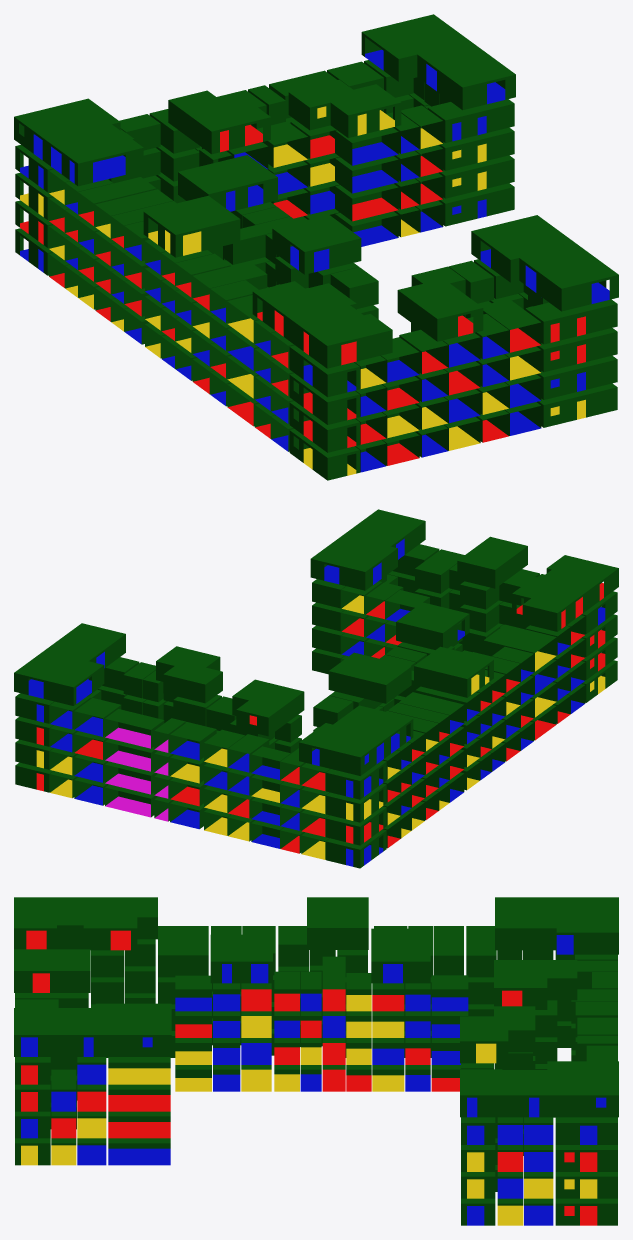
Rendered from Wnetrza.fbx.
3 views of the same model, one above another, from view 1: azimuth 30°, elevation 25°; view 2: azimuth 150°, elevation 25°; view 3: azimuth 270°, elevation 25° (orthographic). The views are drawn at different scales.
Parts seen in each view (by area): view 1: Wnetrza; view 2: Wnetrza; view 3: Wnetrza.
Boxes of the visible parts, x1,y1,x2,y2 form: Wnetrza: (14, 14, 618, 480); Wnetrza: (14, 509, 618, 868); Wnetrza: (14, 897, 618, 1225).
Size of the model in its own units: 4633 by 5986 by 1427.
